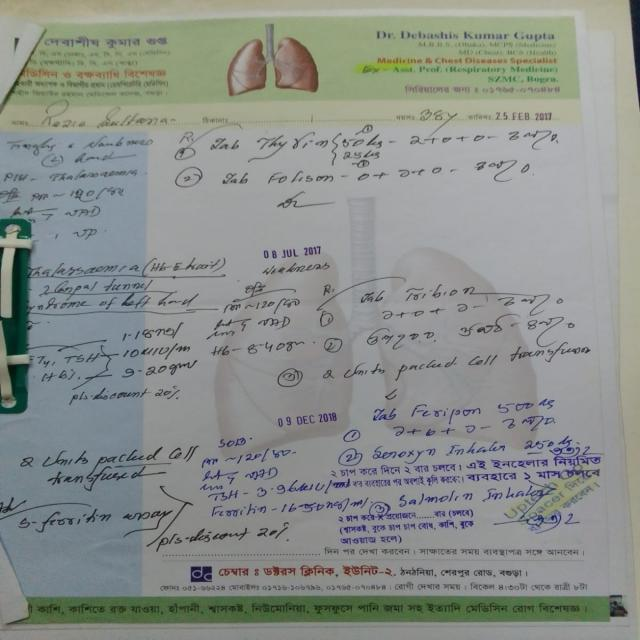Feripon: (412, 399, 489, 421)
Folison: (267, 168, 338, 189)
Salmolin: (395, 490, 477, 507)
Seroxyn: (372, 441, 441, 463)
Thyrin: (257, 130, 333, 158)
Tribion: (399, 283, 486, 301)
